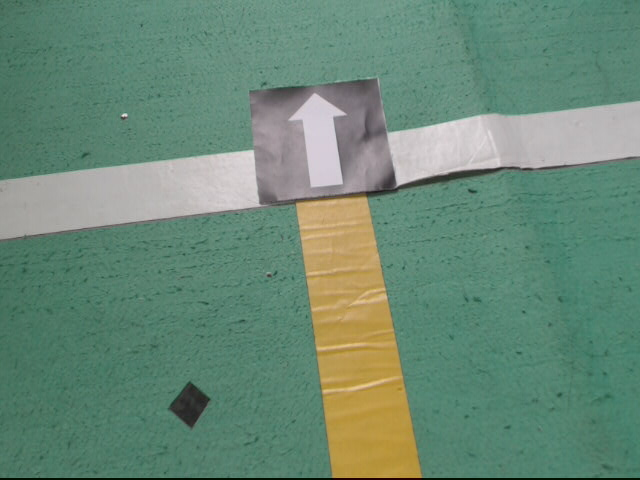straight: (249, 77, 396, 205)
